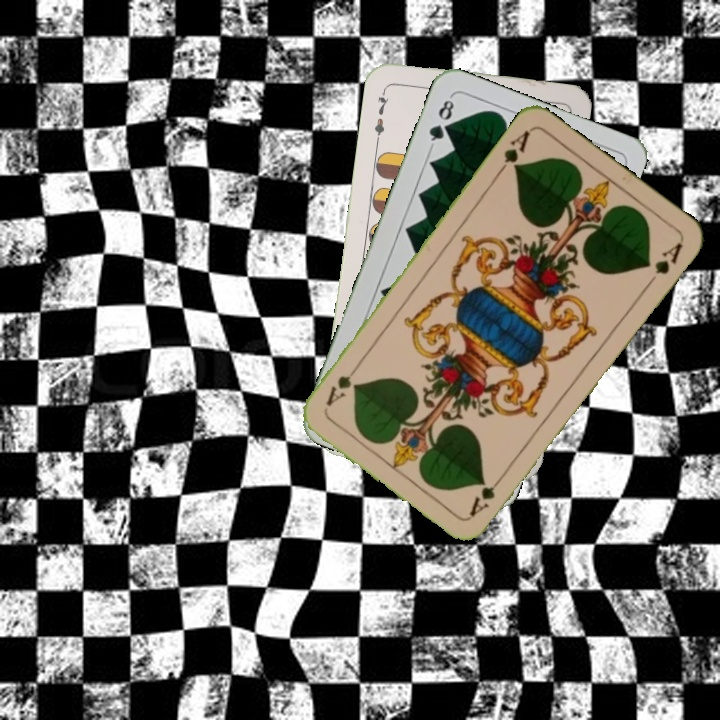E7: (370, 84, 392, 144)
G8: (424, 92, 457, 149)
GA: (465, 469, 508, 520), (493, 126, 533, 178)
